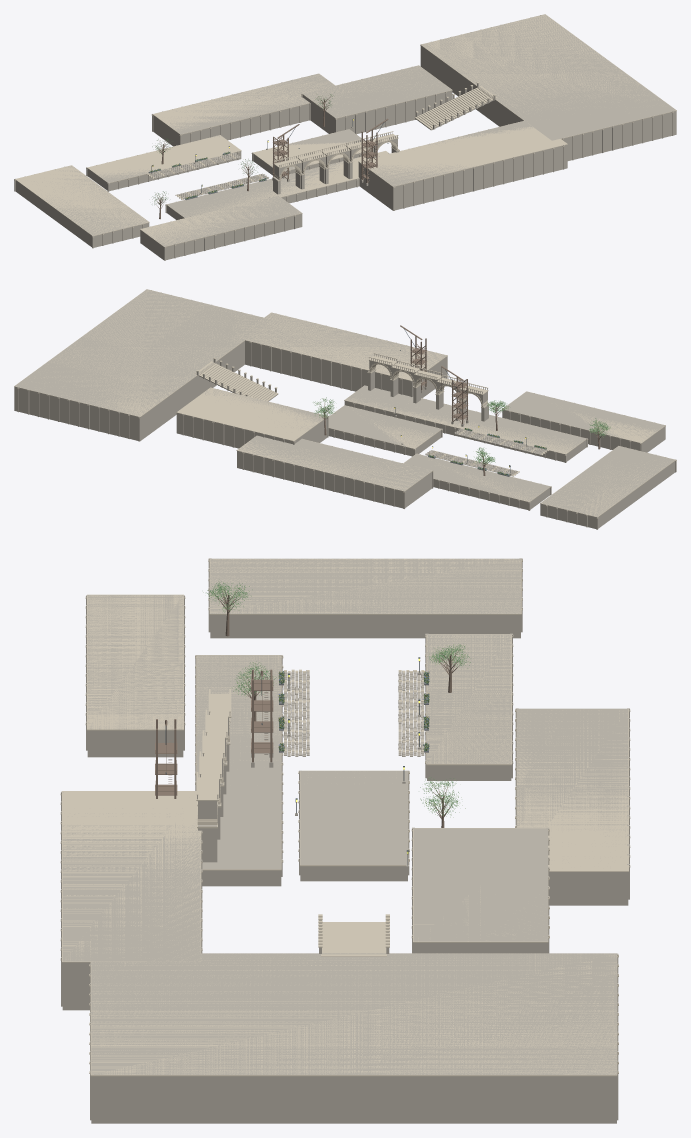
Rendered from twilight-infrastructure.glb.
3 renders of one model, top to bottom at view 1: azimuth 30°, elevation 25°; view 2: azimuth 150°, elevation 25°; view 3: azimuth 270°, elevation 25°, orthographic. The views are drawn at different scales.
Visible parts, largest first — view 1: Approach_Stone, Approach_StoneTrim, Approach_Oak; view 2: Approach_Stone, Approach_StoneTrim, Approach_Oak, Garden_Leaves, Garden_LeavesLight; view 3: Approach_Stone, Approach_StoneTrim, Approach_Oak, Garden_Leaves, Garden_LeavesLight.
Boxes of the visible parts, x1,y1,x2,y2 form: Approach_Stone: (14, 14, 676, 260); Approach_StoneTrim: (14, 14, 676, 248); Approach_Oak: (156, 96, 388, 219); Approach_Stone: (14, 289, 676, 529); Approach_StoneTrim: (14, 289, 676, 518); Approach_Oak: (317, 325, 603, 475); Garden_Leaves: (314, 397, 609, 475); Garden_LeavesLight: (313, 398, 610, 475); Approach_Stone: (61, 558, 629, 1123); Approach_StoneTrim: (60, 558, 630, 1076); Approach_Oak: (155, 585, 461, 827); Garden_Leaves: (206, 581, 470, 816); Garden_LeavesLight: (203, 582, 469, 817).
Bounding box in the file's own units: 334 × 39.27 × 149.
